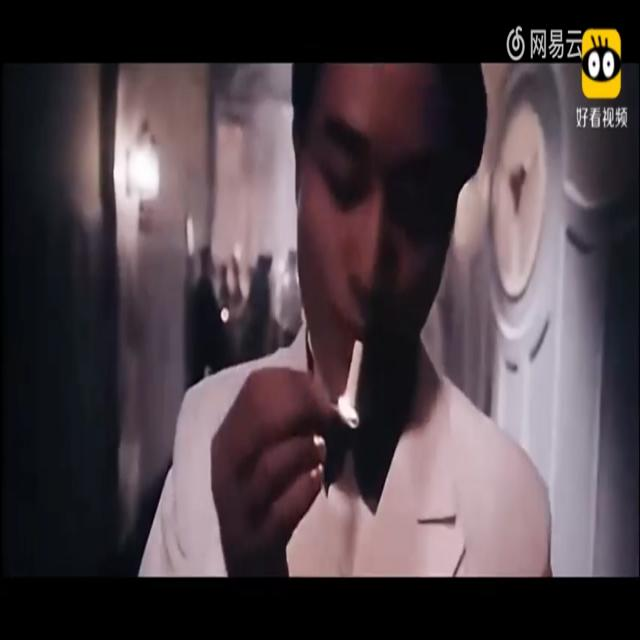smoke: (341, 335, 364, 415)
